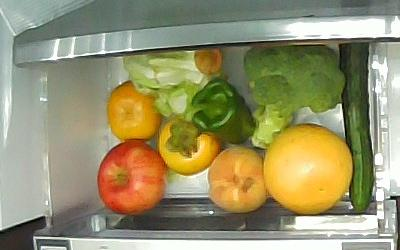apple: (97, 140, 166, 216)
broccoli: (242, 43, 346, 150)
cucumber: (337, 44, 374, 216)
grapefruit: (264, 124, 354, 216)
lettuce: (120, 46, 223, 117)
paprika: (184, 78, 256, 145)
peach: (207, 146, 267, 212)
persimmon: (158, 116, 221, 177), (106, 81, 160, 141)
